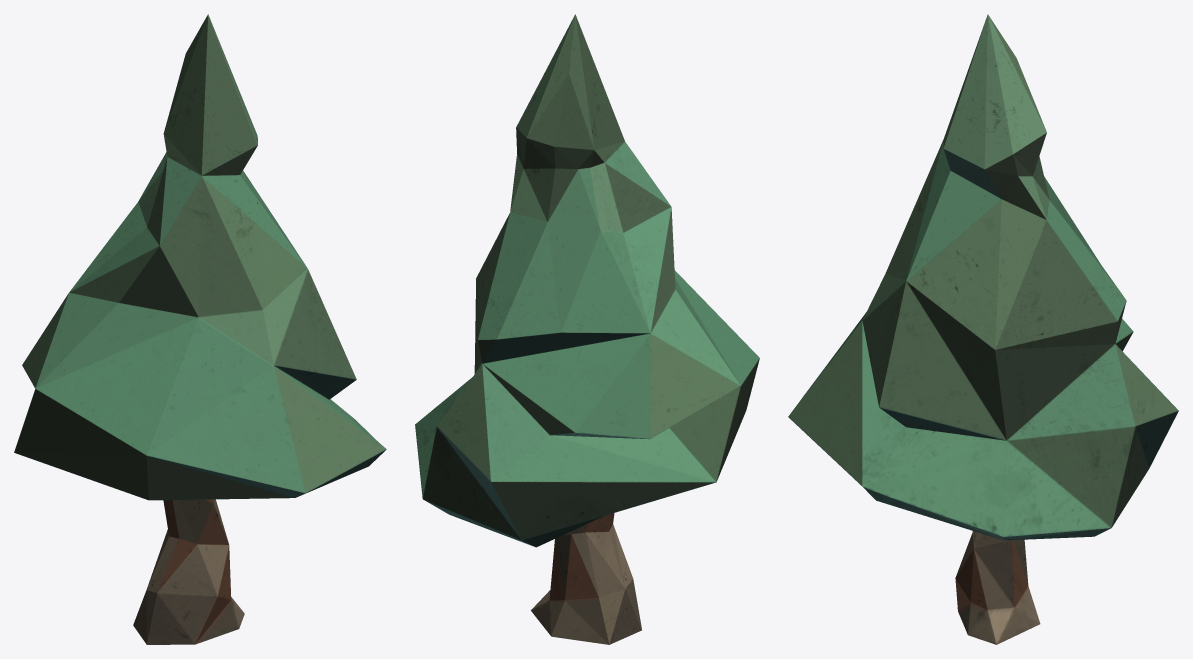
The model's file is Tree.glb.
The picture shows the model from 3 angles, left to right: view 1: azimuth 30°, elevation 25°; view 2: azimuth 150°, elevation 25°; view 3: azimuth 270°, elevation 25°; orthographic projection.
Visible parts, largest first — view 1: tree_1.1; view 2: tree_1.1; view 3: tree_1.1.
Part boxes in pixels (x1=…): tree_1.1: x1=14, y1=14, x2=386, y2=644; tree_1.1: x1=415, y1=14, x2=759, y2=644; tree_1.1: x1=788, y1=14, x2=1178, y2=644.
Bounding box in the file's own units: 0.1247 × 0.2242 × 0.13.
1 material, 1 textured.
